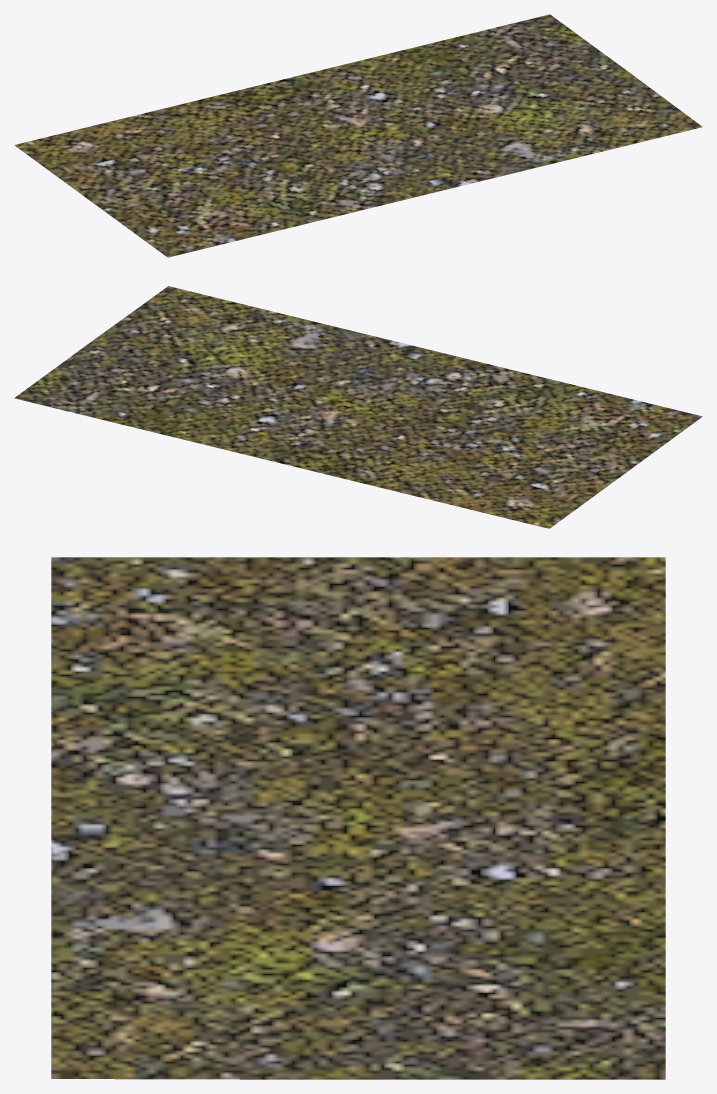
File: Emb_PlanterBalc_4X2open_Dirt.FBX
3 renders of one model, top to bottom at view 1: azimuth 30°, elevation 25°; view 2: azimuth 150°, elevation 25°; view 3: azimuth 270°, elevation 25°, orthographic. The views are drawn at different scales.
Visible parts, largest first — view 1: Emb_PlanterBalc_4X2open_Dirt; view 2: Emb_PlanterBalc_4X2open_Dirt; view 3: Emb_PlanterBalc_4X2open_Dirt.
Boxes of the visible parts, left/top/right/bottom form: Emb_PlanterBalc_4X2open_Dirt: left=14, top=14, right=702, bottom=257; Emb_PlanterBalc_4X2open_Dirt: left=14, top=286, right=702, bottom=528; Emb_PlanterBalc_4X2open_Dirt: left=51, top=557, right=665, bottom=1079.
Bounding box in the file's own units: 3.25 × 4.44e-16 × 1.61.
